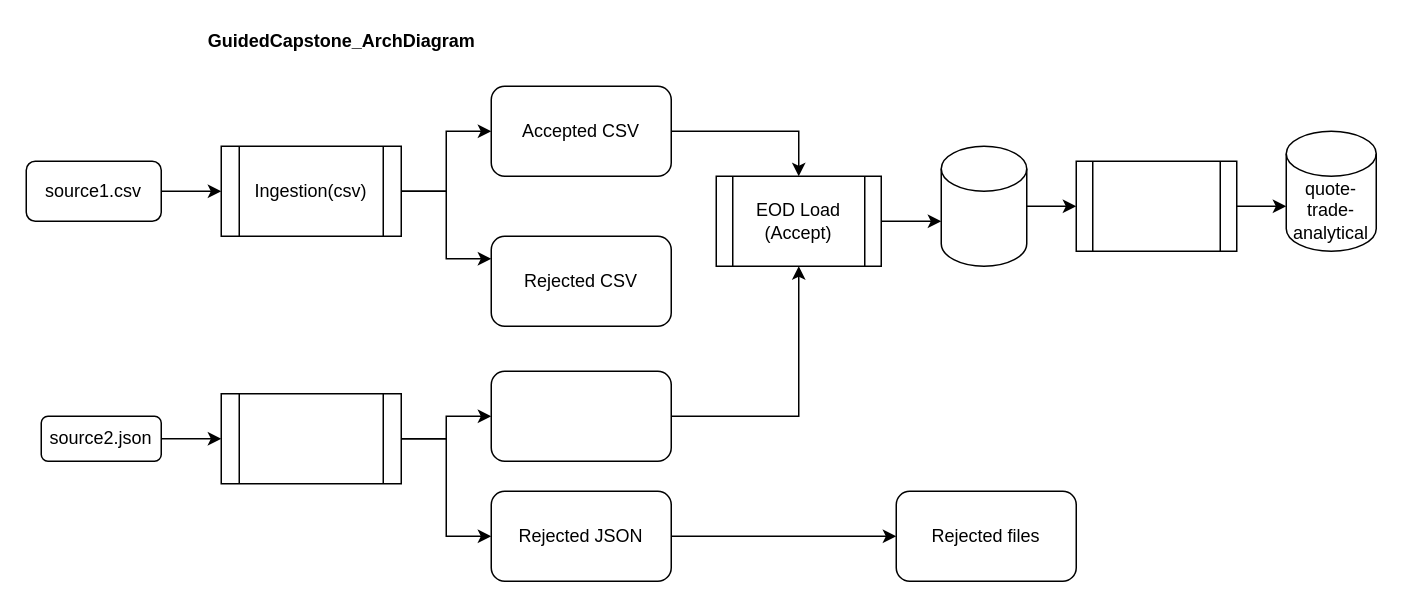
The diagram is 1403 pixels wide and 608 high, and some of its shapes have lost their labels. The shapes that lost their labels are listed below. From the top down, each one's centre as x and y in pixels, then its label:
At (x=983, y=205): "EOD Trade Quote".
At (x=1156, y=205): "Analytical ETL".
At (x=580, y=415): "Accepted JSON".
At (x=310, y=438): "Ingestion(json)".
